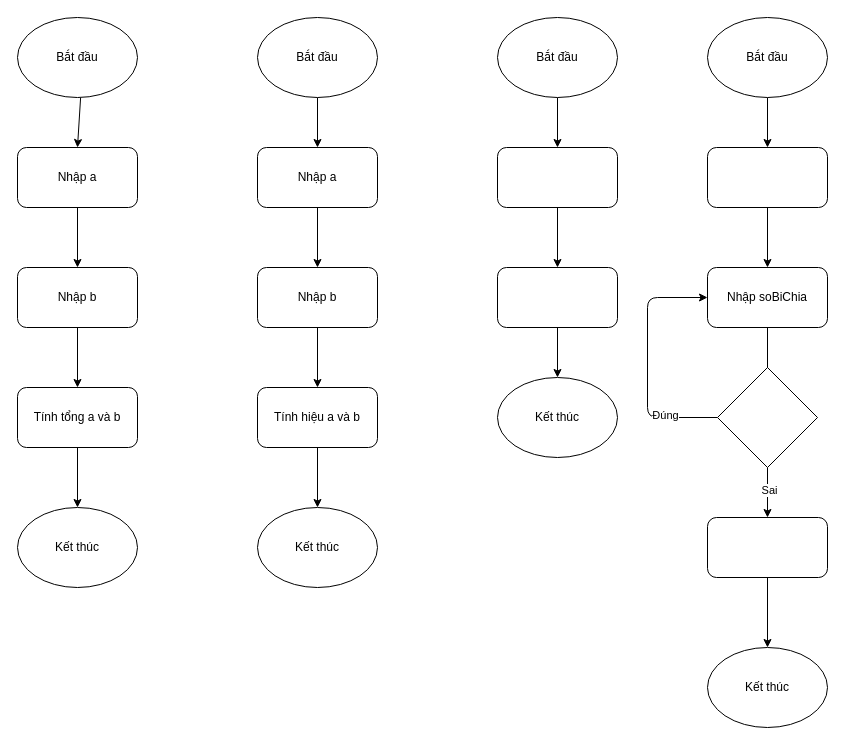
The diagram is 845 pixels wide and 745 high, and some of its shapes have lost their labels. Here are the shapes that lost their labels. From the top down, the box of each, then its label:
(496, 146, 618, 208): Nhập a, b, c
(706, 146, 828, 208): Nhập soChia
(496, 266, 618, 328): Tính tích a, b và c
(716, 366, 818, 468): soBiChia == 0
(706, 516, 828, 578): Tính soChia / soBiChia
